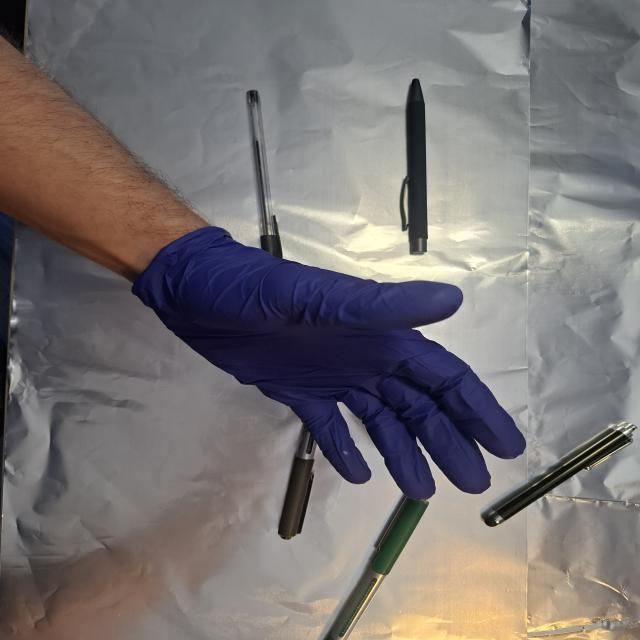glove_on: (134, 223, 531, 504)
